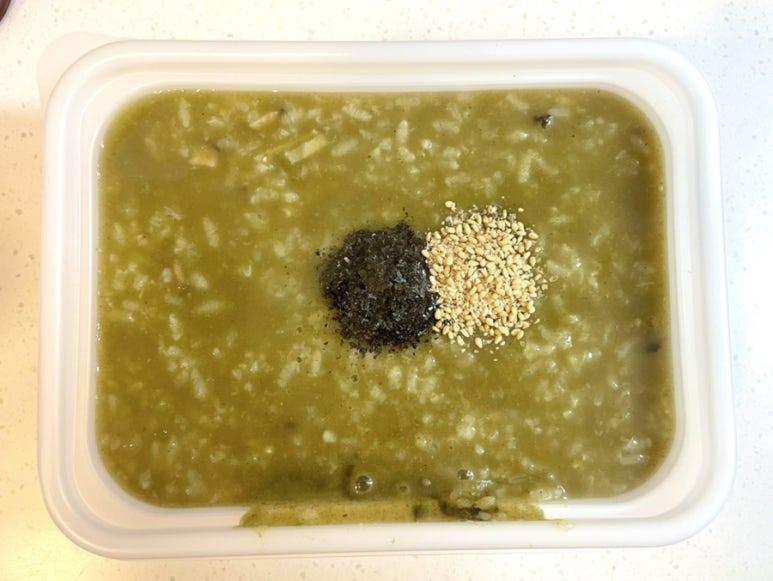Lunch Box: (38, 35, 734, 558)
